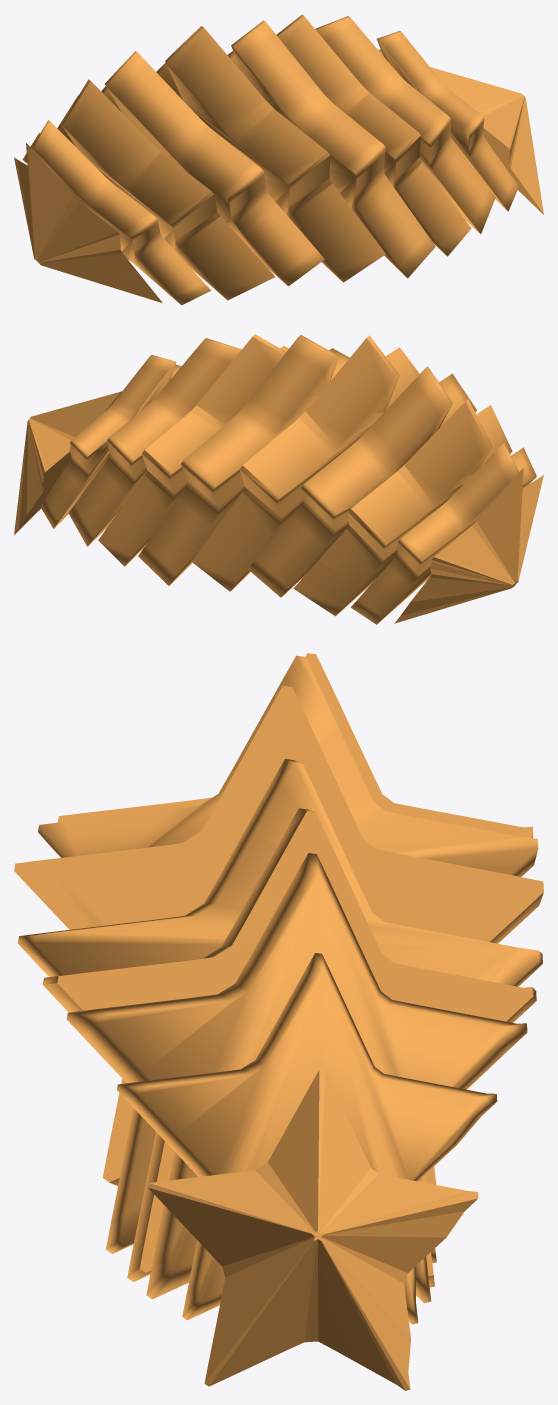
File: Carambola_Recortada.fbx
3 views of the same model, one above another, from view 1: azimuth 30°, elevation 25°; view 2: azimuth 150°, elevation 25°; view 3: azimuth 270°, elevation 25° (orthographic). The views are drawn at different scales.
Parts seen in each view (by area): view 1: Cylinder.008; view 2: Cylinder.008; view 3: Cylinder.008.
Boxes of the visible parts, x1=… form: Cylinder.008: x1=14, y1=14, x2=543, y2=305; Cylinder.008: x1=14, y1=334, x2=543, y2=624; Cylinder.008: x1=14, y1=653, x2=543, y2=1390.
Bounding box in the file's own units: 38.23 × 18.95 × 20.41.
